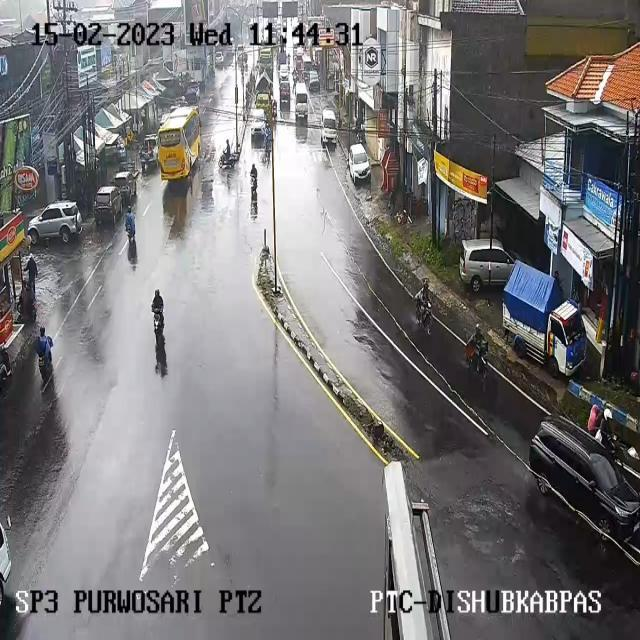Bus: (162, 107, 204, 182)
Car: (529, 417, 639, 552), (458, 240, 521, 289), (28, 200, 83, 244), (93, 187, 124, 226), (0, 516, 13, 592), (348, 143, 370, 183), (114, 170, 138, 202), (140, 135, 160, 168), (249, 108, 267, 142), (321, 108, 337, 142), (294, 84, 308, 119), (279, 81, 291, 107), (306, 70, 319, 92), (278, 64, 290, 81), (302, 54, 312, 74), (214, 51, 224, 65), (236, 45, 246, 57), (296, 46, 304, 59)
Motorbike: (466, 325, 489, 374), (594, 409, 616, 451), (35, 327, 53, 372), (415, 280, 433, 323), (152, 292, 166, 346), (154, 330, 167, 376), (587, 402, 604, 436), (23, 254, 38, 292), (0, 347, 12, 389), (151, 290, 164, 328), (124, 208, 136, 239), (258, 243, 270, 270), (264, 131, 272, 155), (250, 164, 257, 188), (224, 140, 230, 158)
Truck: (508, 266, 586, 378), (254, 71, 274, 112), (255, 45, 276, 75)
